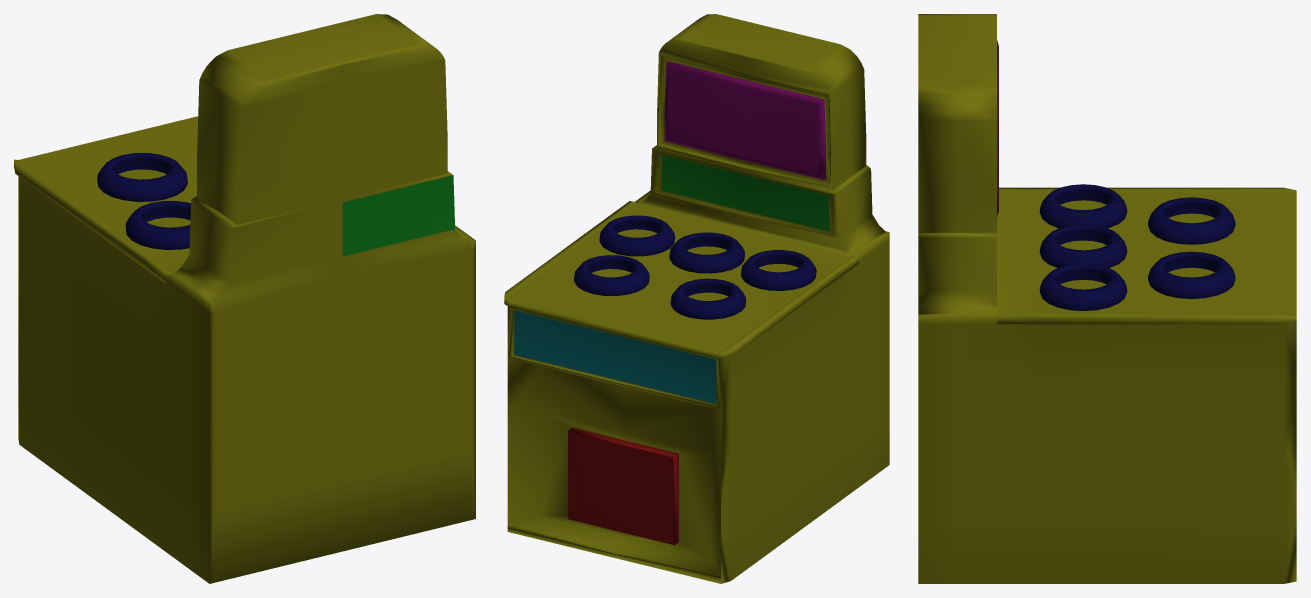
Rendered from whack-a-ghoul textured.fbx.
3 views of the same model, side by side, from view 1: azimuth 30°, elevation 25°; view 2: azimuth 150°, elevation 25°; view 3: azimuth 270°, elevation 25° (orthographic). The views are drawn at different scales.
Visible parts, largest first — view 1: pTorus14; view 2: pTorus14; view 3: pTorus14.
Part boxes in pixels (x1,y1,x2,y2): pTorus14: [14, 14, 475, 583]; pTorus14: [504, 14, 889, 583]; pTorus14: [918, 14, 1296, 583].
Size of the model in its own units: 1.94 by 3.3 by 2.41.
